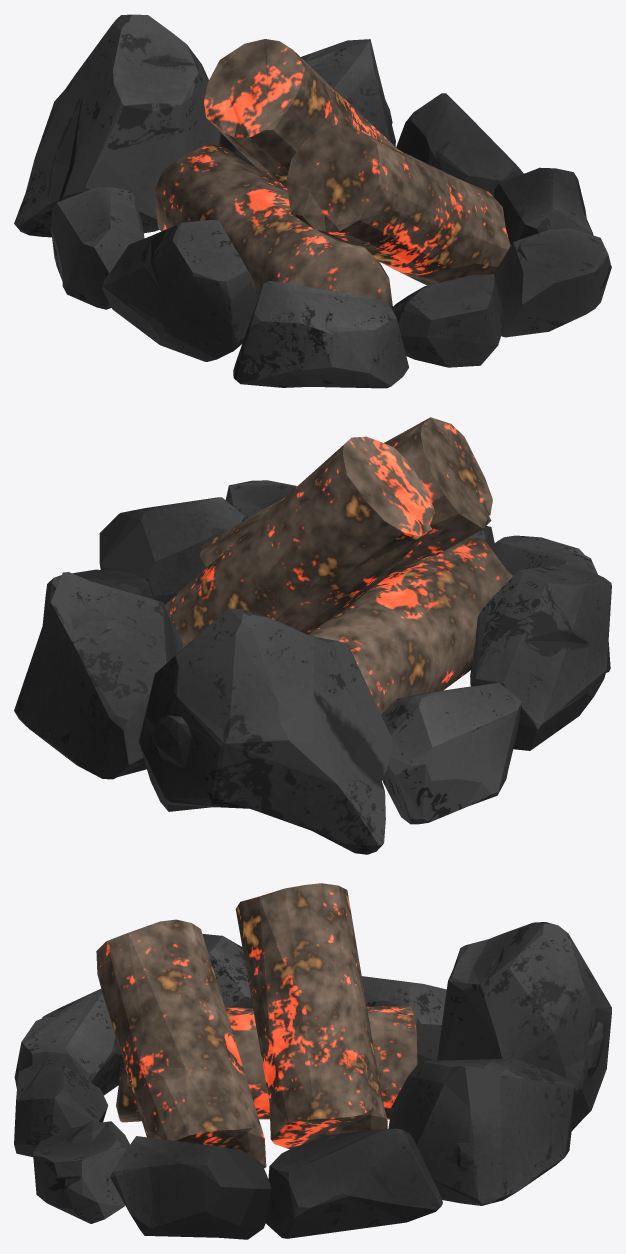
File: campfire.gltf
3 views of the same model, one above another, from view 1: azimuth 30°, elevation 25°; view 2: azimuth 150°, elevation 25°; view 3: azimuth 270°, elevation 25° (orthographic). The views are drawn at different scales.
Parts seen in each view (by area): view 1: campfire_model:subtool14; view 2: campfire_model:subtool14; view 3: campfire_model:subtool14.
Part boxes in pixels (<box>): campfire_model:subtool14: <box>14,14,611,388</box>; campfire_model:subtool14: <box>14,417,611,854</box>; campfire_model:subtool14: <box>14,883,611,1239</box>.
Size of the model in its own units: 8.91 by 4.86 by 10.46.
Materials: 3 (3 with a texture image).
